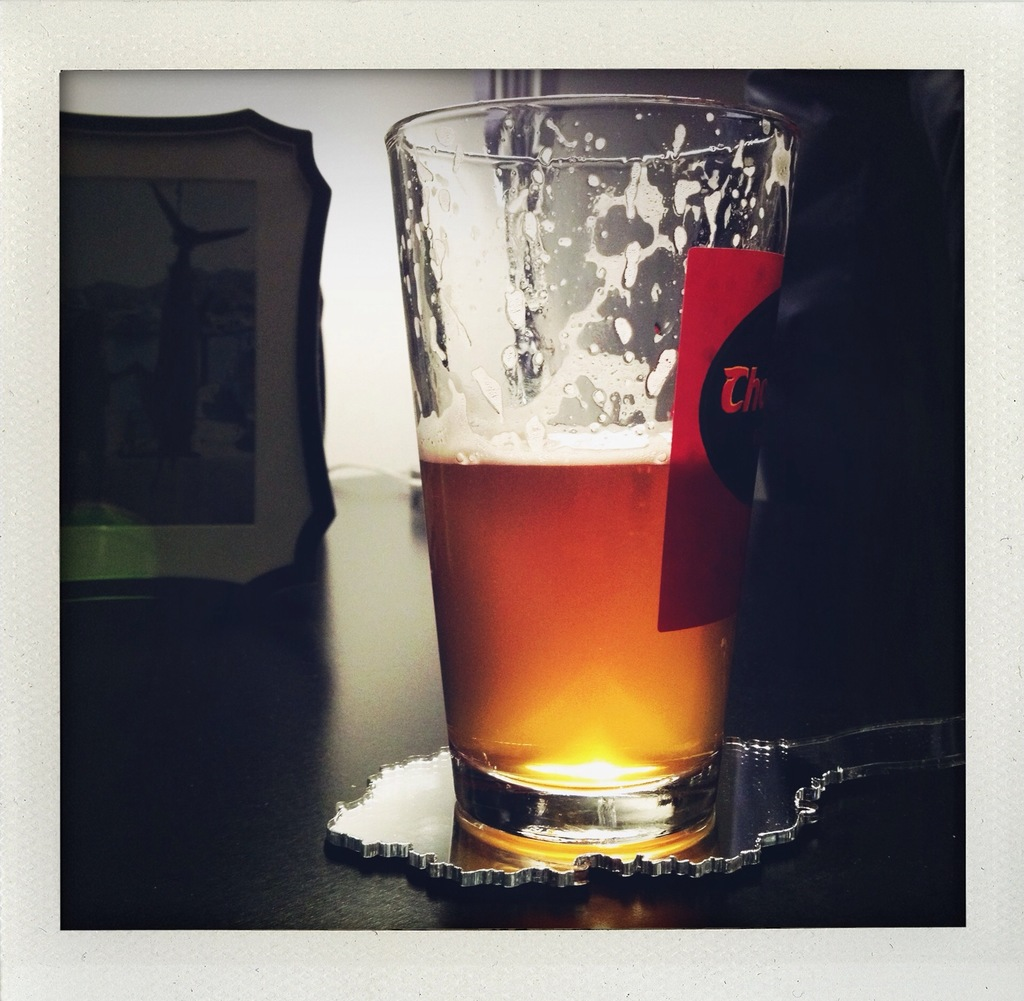Beer: (418, 420, 741, 787)
